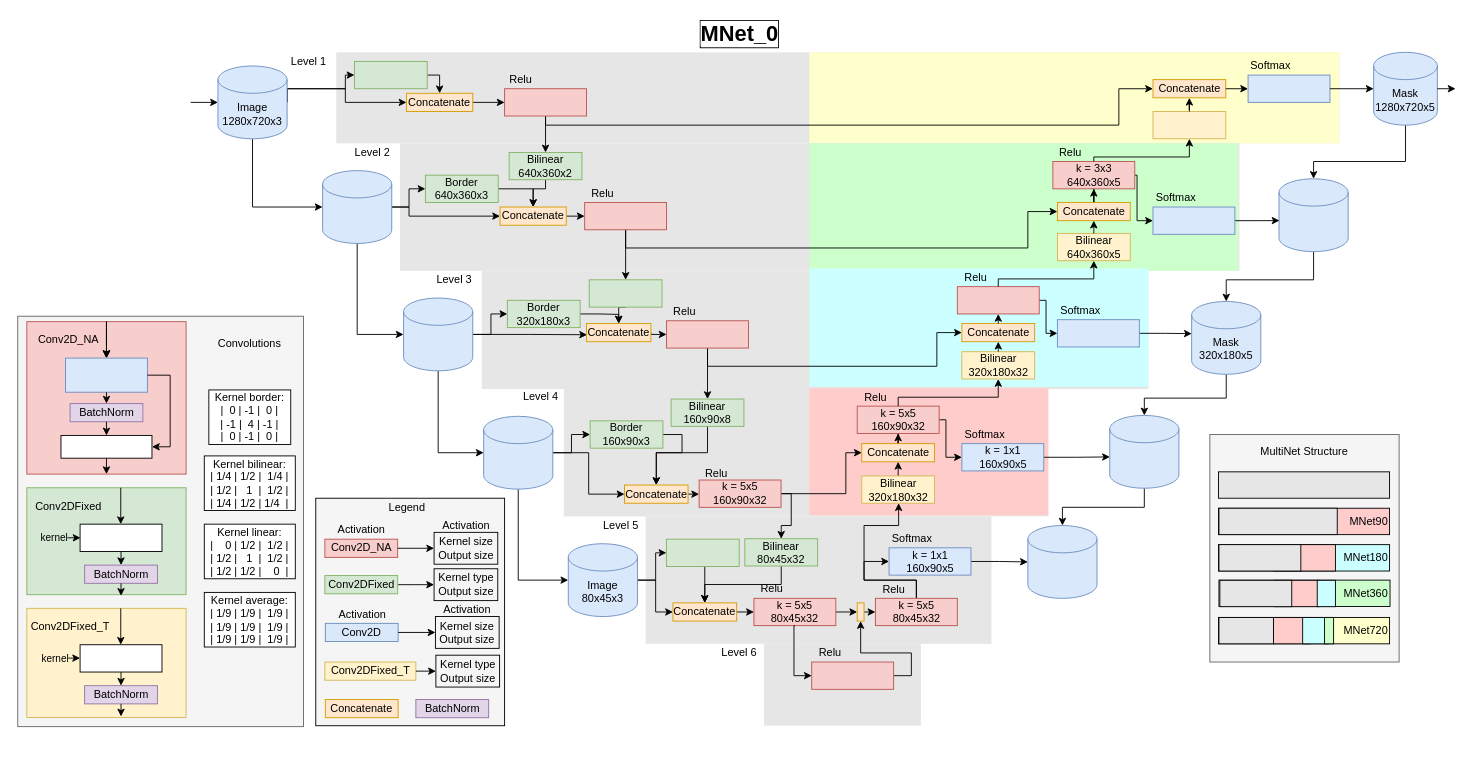
Some shapes in this 1479 by 783 pixel diagram are drawn without their labels. Here are the shapes that lost their labels. From the top down, the centre of each, then its label:
point 390,75: Border 1280x720x3
point 1288,88: k = 1x1 1280x720x5
point 545,102: k = 3x3 1280x720x2
point 1189,125: Bilinear 1280x720x5
point 357,206: Image 640x360x3
point 625,216: k = 3x3 640x360x4
point 1193,220: k = 1x1 640x360x5
point 1313,215: Mask 640x360x5
point 625,293: Bilinear 320x180x4
point 997,300: k = 3x3 320x180x5
point 438,334: Image 320x180x3
point 707,334: k = 3x3 320x180x8
point 1098,333: k = 1x1 320x180x5
point 106,374: Conv2D kernel_reg = L2
point 106,446: ReLU (BN + bias)
point 518,452: Image 160x90x3
point 1144,451: Mask 160x90x5
point 1304,484: MNet45
point 120,537: tf.nn.Conv2D
point 702,552: Border 80x45x3
point 1062,561: Mask 80x45x5
point 120,658: tf.nn.Conv2D_T
point 852,675: k = 5x5 80x45x64
